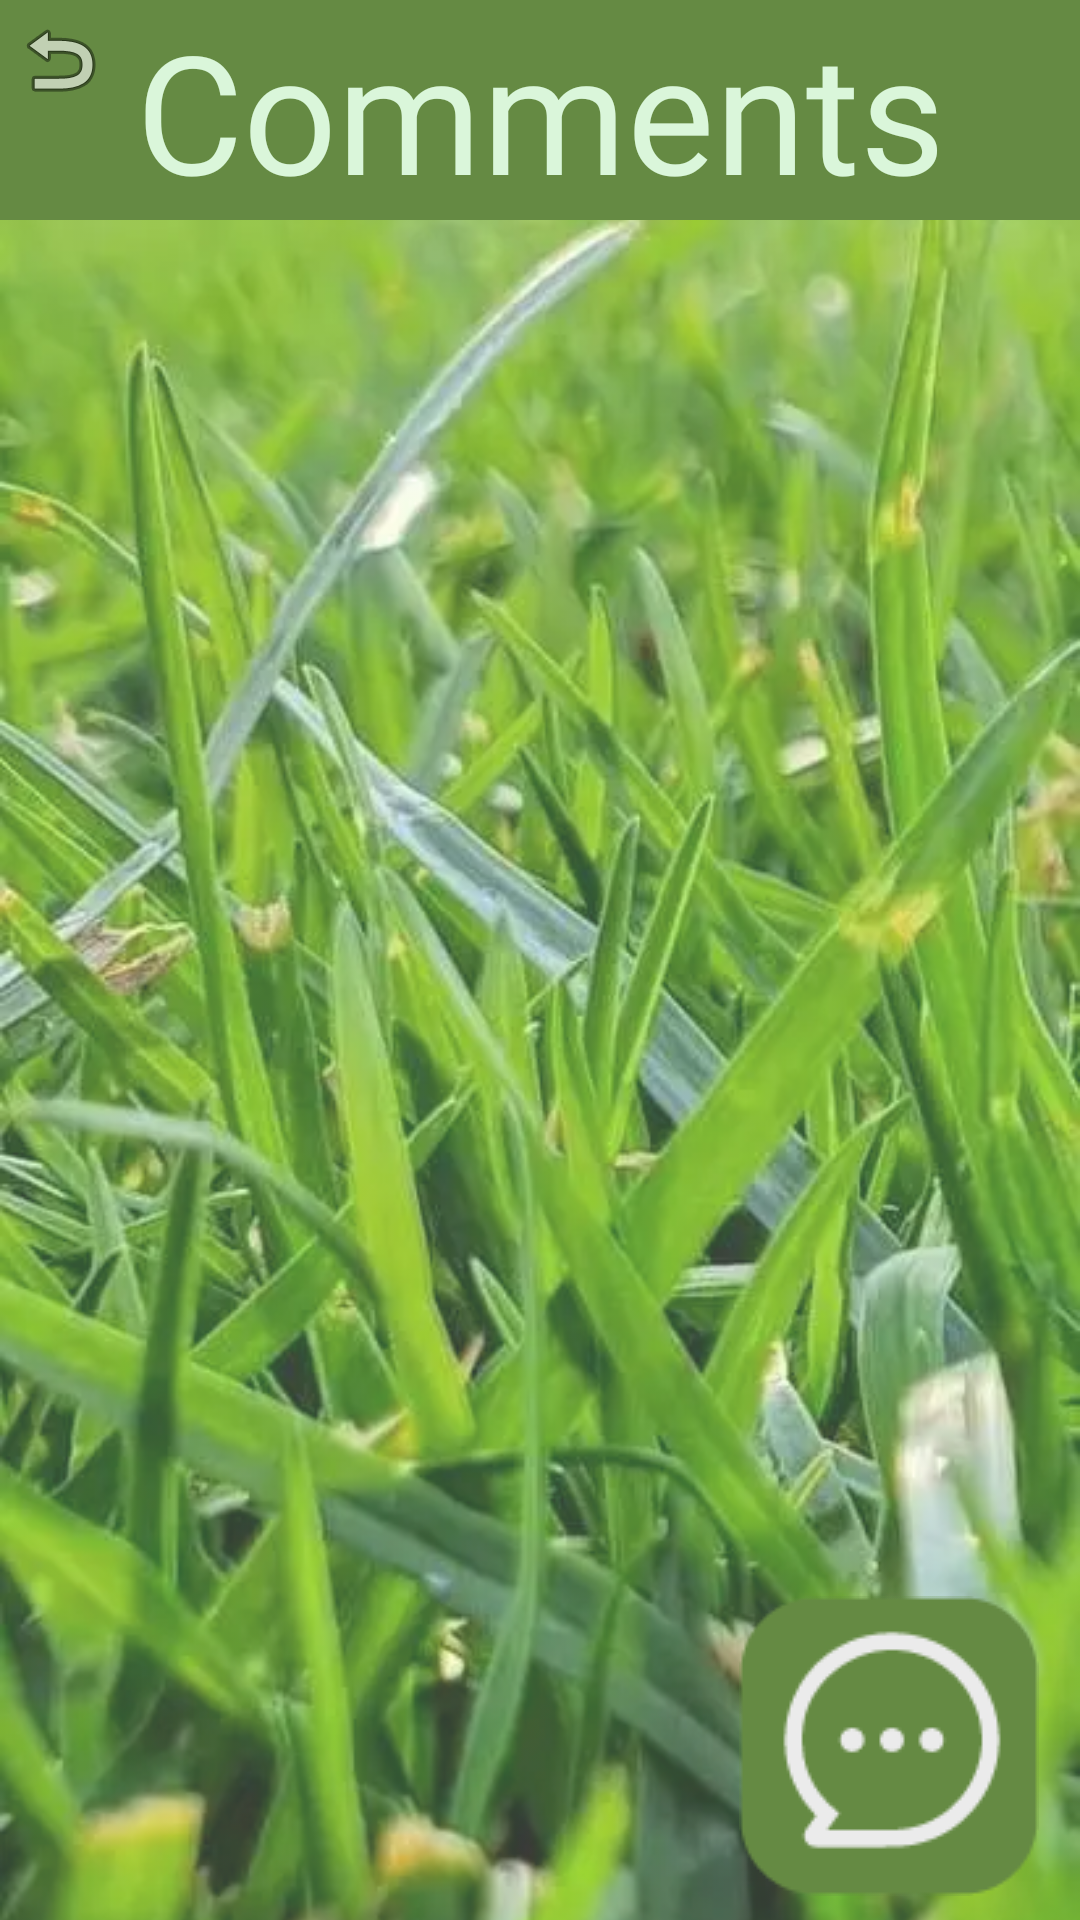

Point at icon controls on the screen. Image size 1080 x 1920, points as (x,y).
comment: (889,1746)
revert: (61,61)
